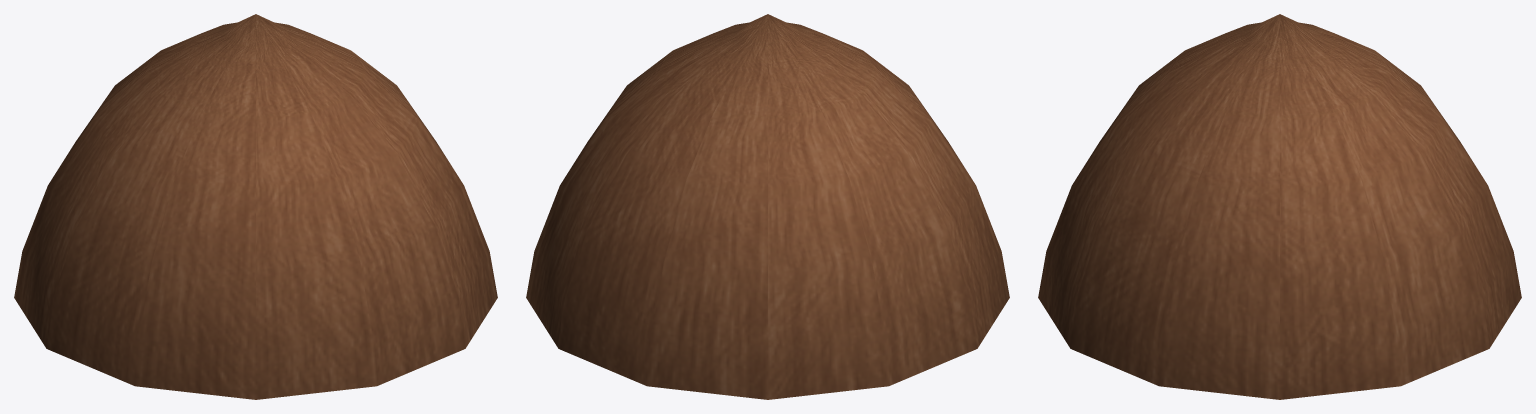
Rendered from Coconut_Half_Top.fbx.
3 renders of one model, left to right at view 1: azimuth 30°, elevation 25°; view 2: azimuth 150°, elevation 25°; view 3: azimuth 270°, elevation 25°, orthographic.
Visible parts, largest first — view 1: Coconut_Half_Top; view 2: Coconut_Half_Top; view 3: Coconut_Half_Top.
Boxes of the visible parts, bbox=[...] form: Coconut_Half_Top: bbox=[14, 14, 497, 399]; Coconut_Half_Top: bbox=[526, 14, 1009, 399]; Coconut_Half_Top: bbox=[1038, 14, 1521, 399].
Size of the model in its own units: 1.85 by 1.19 by 1.85.
